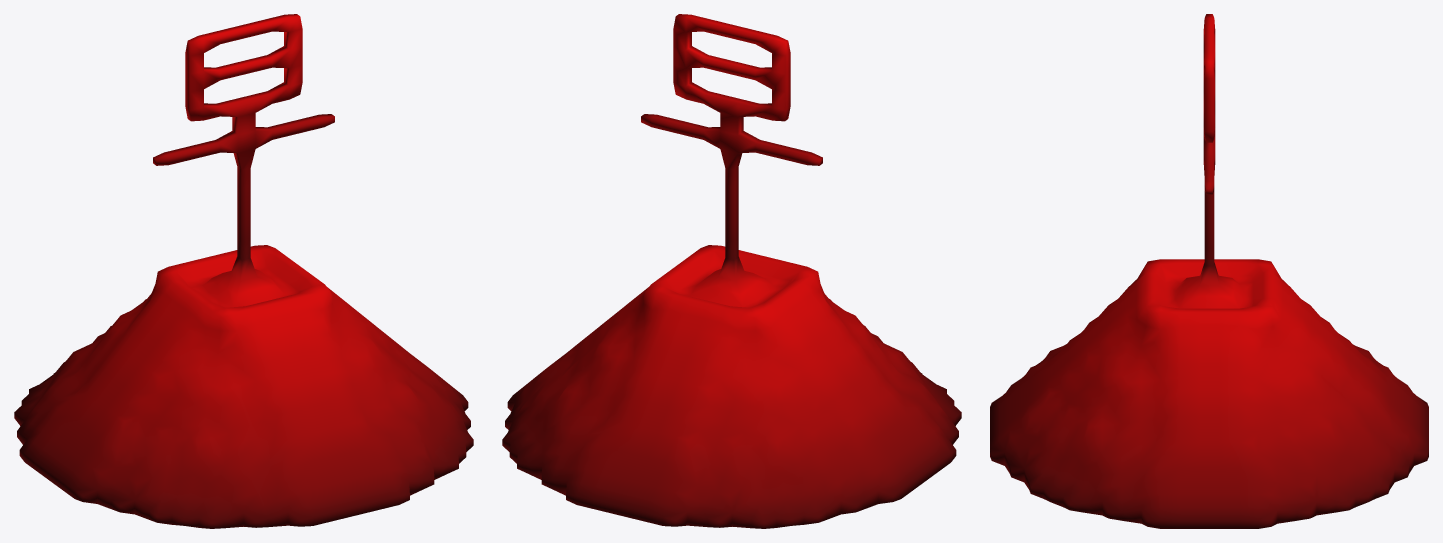
3 renders of one model, left to right at view 1: azimuth 30°, elevation 25°; view 2: azimuth 150°, elevation 25°; view 3: azimuth 270°, elevation 25°, orthographic. The views are drawn at different scales.
Size of the model in its own units: 1.12 by 1.14 by 1.12.
